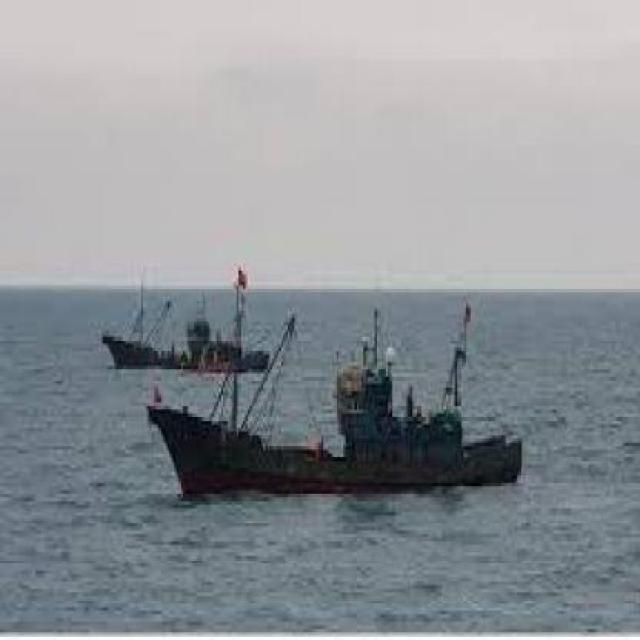fish-b: (144, 367, 541, 524), (86, 260, 287, 385)
